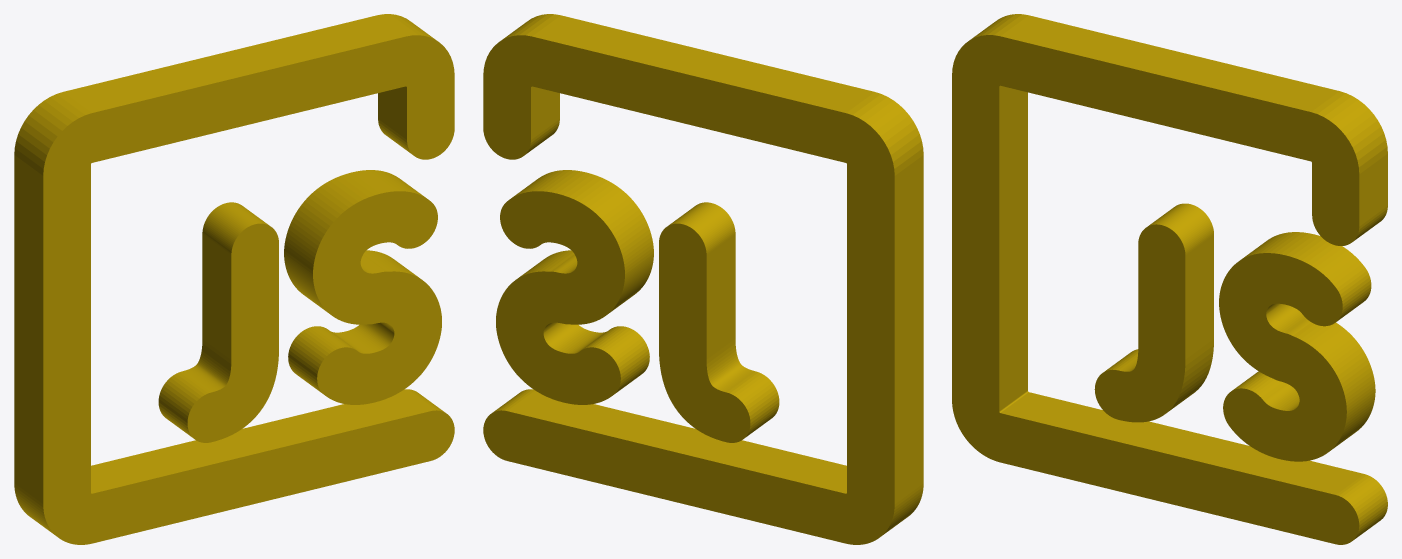
Rendered from javascript.glb.
The picture shows the model from 3 angles, left to right: view 1: azimuth 30°, elevation 25°; view 2: azimuth 150°, elevation 25°; view 3: azimuth 330°, elevation 25°; orthographic projection.
Bounding box in the file's own units: 0.82 × 0.82 × 0.1.
